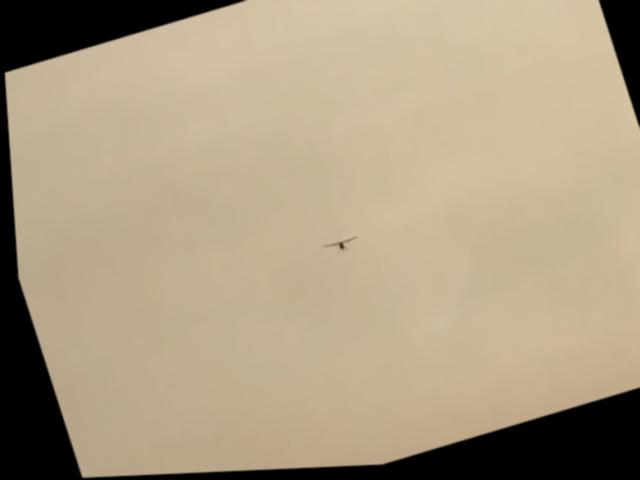plane: (318, 236, 357, 260)
